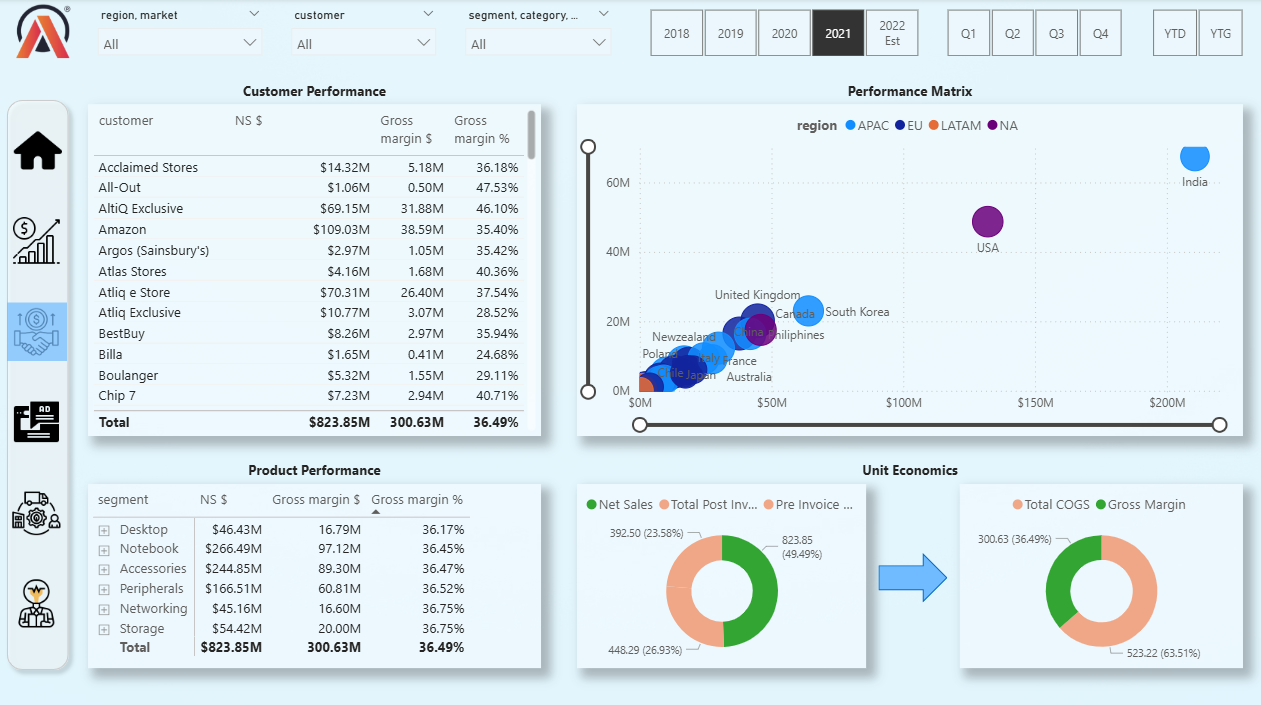

This screenshot's page, from the dashboard's own definition file:
{"tool":"powerbi","page":{"name":"Sales View","canvas":[1280,720],"ordinal":2},"visuals":[{"type":"slicer","fields":{"Values":["fiscal_year.Fiscal Year description"]},"box":[632.4,4.6,320,61],"z":1000},{"type":"slicer","fields":{"Values":["dim_date.quarters"]},"box":[933.3,4.6,225.5,61],"z":2000},{"type":"slicer","fields":{"Values":["dim_date.year_till_date_year_to_go"]},"box":[1139.8,4.6,140.2,61],"z":3000},{"type":"slicer","fields":{"Values":["dim_market.region","dim_market.market"]},"box":[91.4,4.6,185.9,61],"z":10000},{"type":"slicer","fields":{"Values":["dim_product.segment","dim_product.category","dim_product.product"]},"box":[461.7,4.6,167.6,61],"z":11000},{"type":"slicer","fields":{"Values":["dim_customer.customer"]},"box":[286.5,4.6,166.1,61],"z":12000},{"type":"image","box":[0,0,91.4,65.5],"z":19000},{"type":"shape","box":[0,93.9,80.3,593.6],"z":20000},{"type":"image","box":[9.1,307.1,59.1,59.1],"z":21000},{"type":"image","box":[9.1,398.5,59.1,59.1],"z":22000},{"type":"image","box":[9.1,215.6,59.1,59.1],"z":23000},{"type":"image","box":[10.6,124.2,59.1,59.1],"z":24000},{"type":"image","box":[9.1,490,59.1,59.1],"z":25000},{"type":"image","box":[9.1,581.5,59.1,59.1],"z":26000},{"type":"shape","box":[9.1,307.4,60.6,59.1],"z":27000},{"type":"tableEx","fields":{"Values":["dim_customer.customer","Key Measures.Net sales $","Key Measures.Gross margin $","Key Measures.Gross margin %"]},"box":[90.9,107.5,457.3,334.6],"z":27001},{"type":"pivotTable","fields":{"Rows":["dim_product.segment","dim_product.category","dim_product.product"],"Values":["Key Measures.Net sales $","Key Measures.Gross margin $","Key Measures.Gross margin %"]},"box":[90.9,490.6,457.3,186.2],"z":27002},{"type":"textbox","box":[90.9,78.7,457.3,28.8],"z":27003},{"type":"textbox","box":[90.9,461.8,457.3,28.8],"z":27004},{"type":"scatterChart","fields":{"Category":["dim_customer.market","dim_customer.customer"],"X":["Key Measures.Net sales $"],"Y":["Key Measures.Gross margin $"],"Size":["Key Measures.Gross margin %"],"Series":["dim_market.region"]},"box":[584.5,107.5,672.3,334.6],"z":27005},{"type":"donutChart","fields":{"Category":["P $ L Rows.Description"],"Y":["Key Measures.P&L Values"]},"box":[584.5,490.6,292.2,186.2],"z":27006},{"type":"donutChart","fields":{"Category":["P $ L Rows.Description"],"Y":["Key Measures.P&L Values"]},"box":[970.6,490.6,286.2,186.2],"z":27007},{"type":"shape","box":[888.8,560.3,69.7,50],"z":27008},{"type":"textbox","box":[584.5,461.8,672.3,28.8],"z":27009},{"type":"textbox","box":[584.5,78.7,672.3,28.8],"z":27010}]}

Visuals, with their boxes on the page's 1280x720 design canvas (x1, y1, x2, y2). These are canvas units, not pixel positions in the 1261x705 screenshot, which may show the page scaled, cropped or inside an application window:
slicer - fiscal_year.Fiscal Year description: left=632, top=5, right=952, bottom=66
slicer - dim_date.quarters: left=933, top=5, right=1159, bottom=66
slicer - dim_date.year_till_date_year_to_go: left=1140, top=5, right=1280, bottom=66
slicer - dim_market.region x dim_market.market: left=91, top=5, right=277, bottom=66
slicer - dim_product.segment x dim_product.category: left=462, top=5, right=629, bottom=66
slicer - dim_customer.customer: left=286, top=5, right=453, bottom=66
image: left=0, top=0, right=91, bottom=66
shape: left=0, top=94, right=80, bottom=688
image: left=9, top=307, right=68, bottom=366
image: left=9, top=398, right=68, bottom=458
image: left=9, top=216, right=68, bottom=275
image: left=11, top=124, right=70, bottom=183
image: left=9, top=490, right=68, bottom=549
image: left=9, top=582, right=68, bottom=641
shape: left=9, top=307, right=70, bottom=366
tableEx - dim_customer.customer x Key Measures.Net sales $: left=91, top=108, right=548, bottom=442
pivotTable - dim_product.segment x dim_product.category: left=91, top=491, right=548, bottom=677
textbox: left=91, top=79, right=548, bottom=108
textbox: left=91, top=462, right=548, bottom=491
scatterChart - dim_customer.market x dim_customer.customer: left=584, top=108, right=1257, bottom=442
donutChart - P $ L Rows.Description x Key Measures.P&L Values: left=584, top=491, right=877, bottom=677
donutChart - P $ L Rows.Description x Key Measures.P&L Values: left=971, top=491, right=1257, bottom=677
shape: left=889, top=560, right=958, bottom=610
textbox: left=584, top=462, right=1257, bottom=491
textbox: left=584, top=79, right=1257, bottom=108
